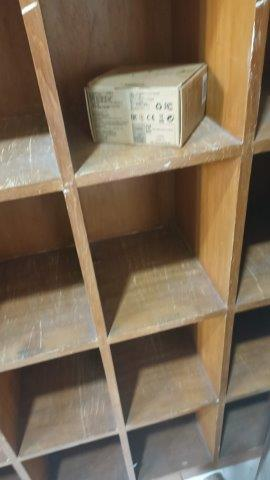kardus: (85, 62, 206, 147)
